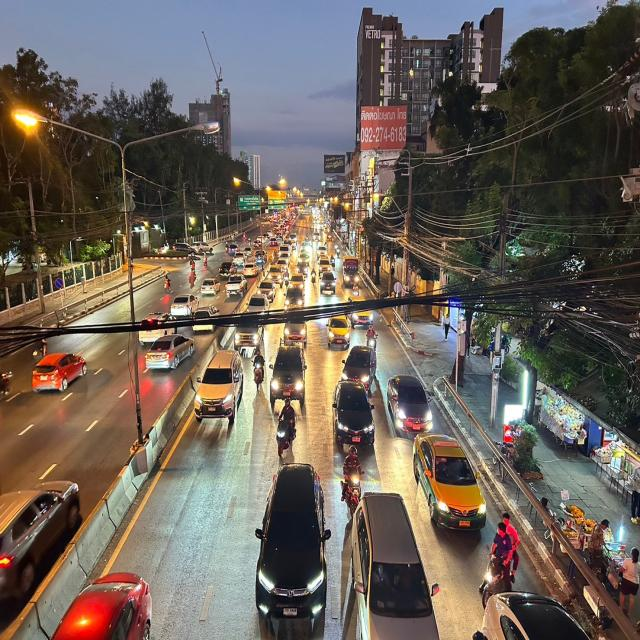bike: (480, 502, 518, 606), (331, 436, 370, 516), (271, 384, 299, 460)
